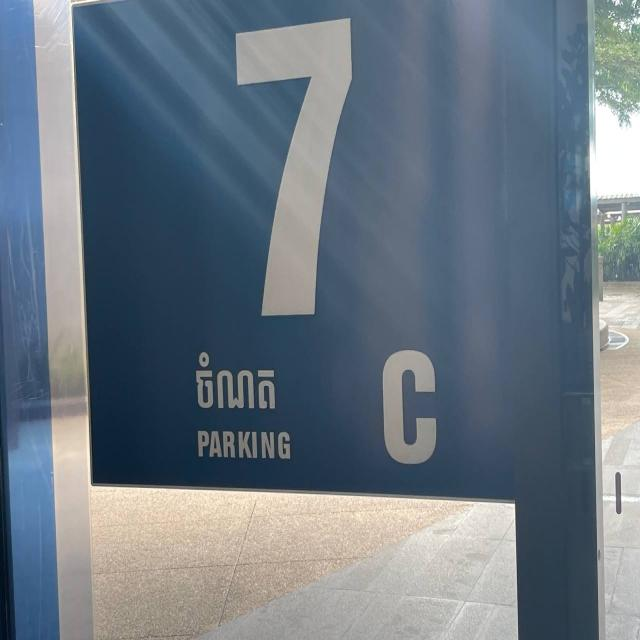819: (213, 13, 380, 339)
Yolov11_80vkh: (187, 346, 285, 419)
